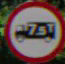Heavy Vehicles: (3, 5, 58, 54)
